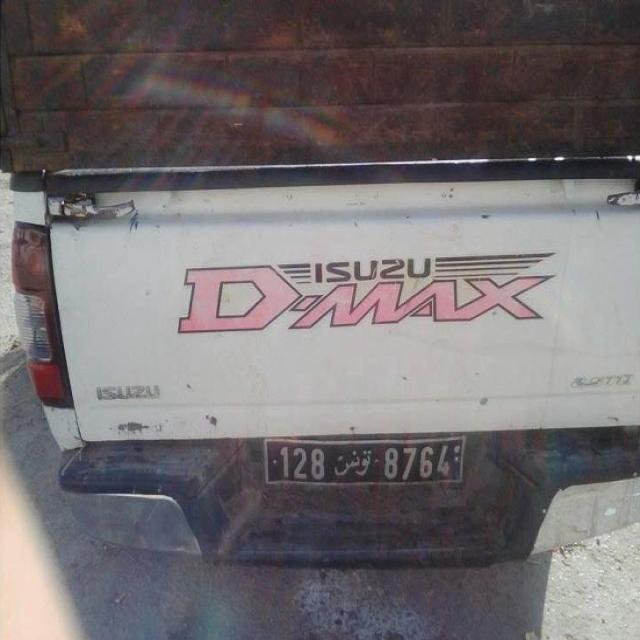licence plate: (266, 435, 467, 481)
